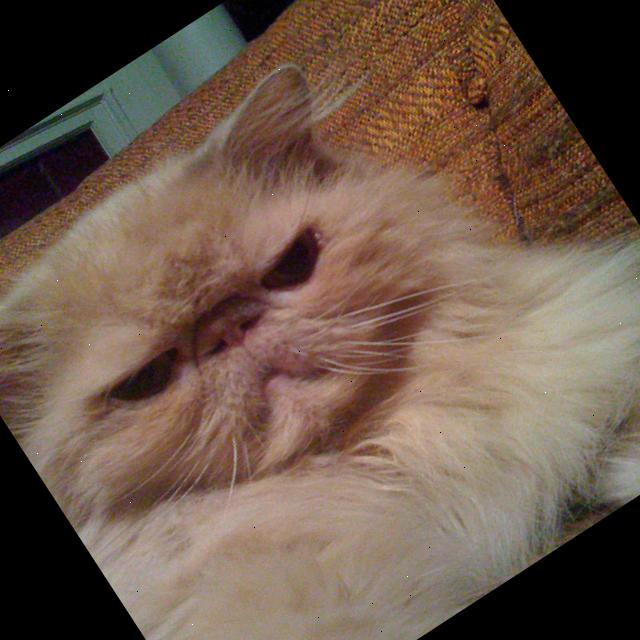cat-eye: (86, 328, 220, 444), (245, 209, 360, 311)
